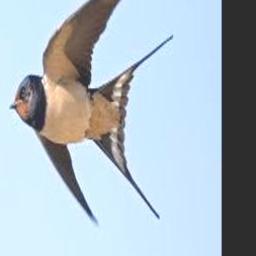Swallow: (10, 0, 173, 225)
